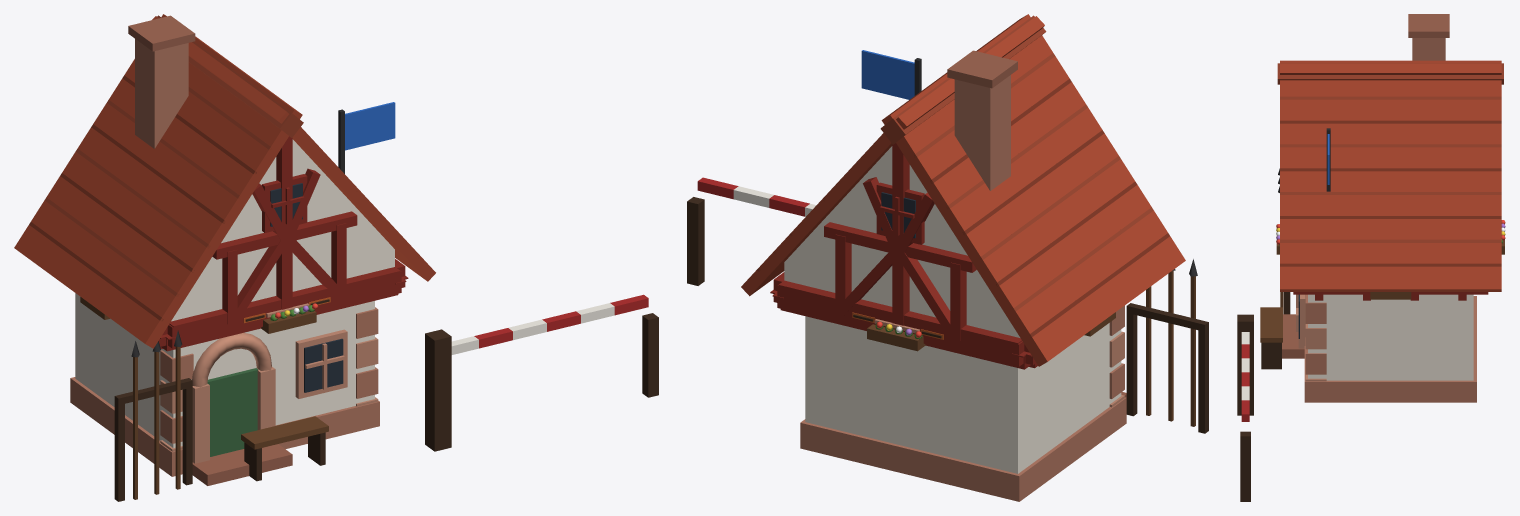
Rendered from wachstube.glb.
The picture shows the model from 3 angles, left to right: view 1: azimuth 30°, elevation 25°; view 2: azimuth 150°, elevation 25°; view 3: azimuth 270°, elevation 25°; orthographic projection. The views are drawn at different scales.
Size of the model in its own units: 4.85 by 3.4 by 2.59.
